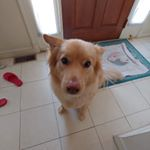puppy: (40, 31, 126, 122)
